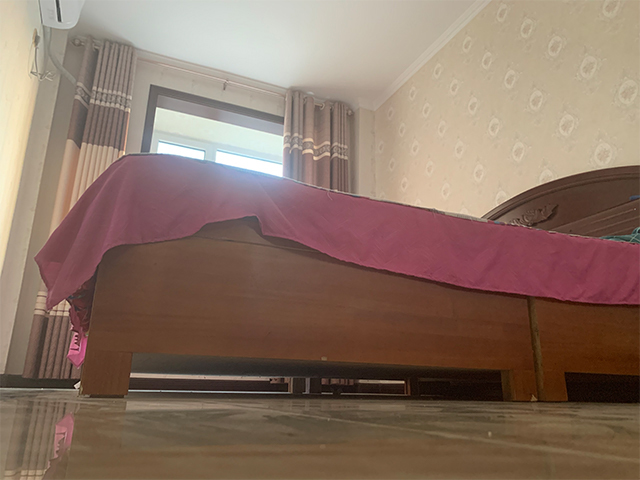bed: (32, 153, 640, 403)
curtain: (22, 34, 135, 381)
